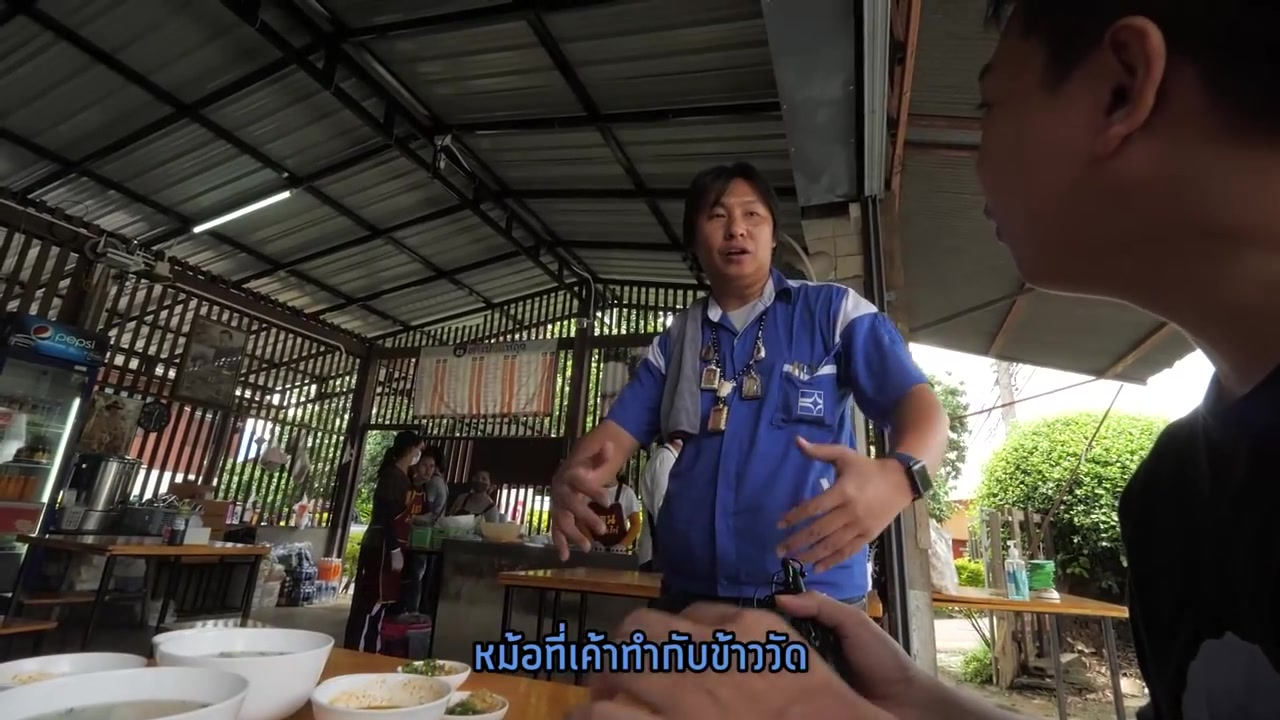text-label: (467, 617, 813, 678)
